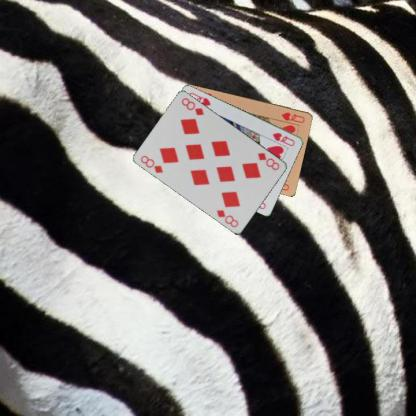8d: (255, 150, 281, 172), (138, 152, 164, 174)
Qh: (270, 130, 296, 147), (279, 109, 306, 124)
